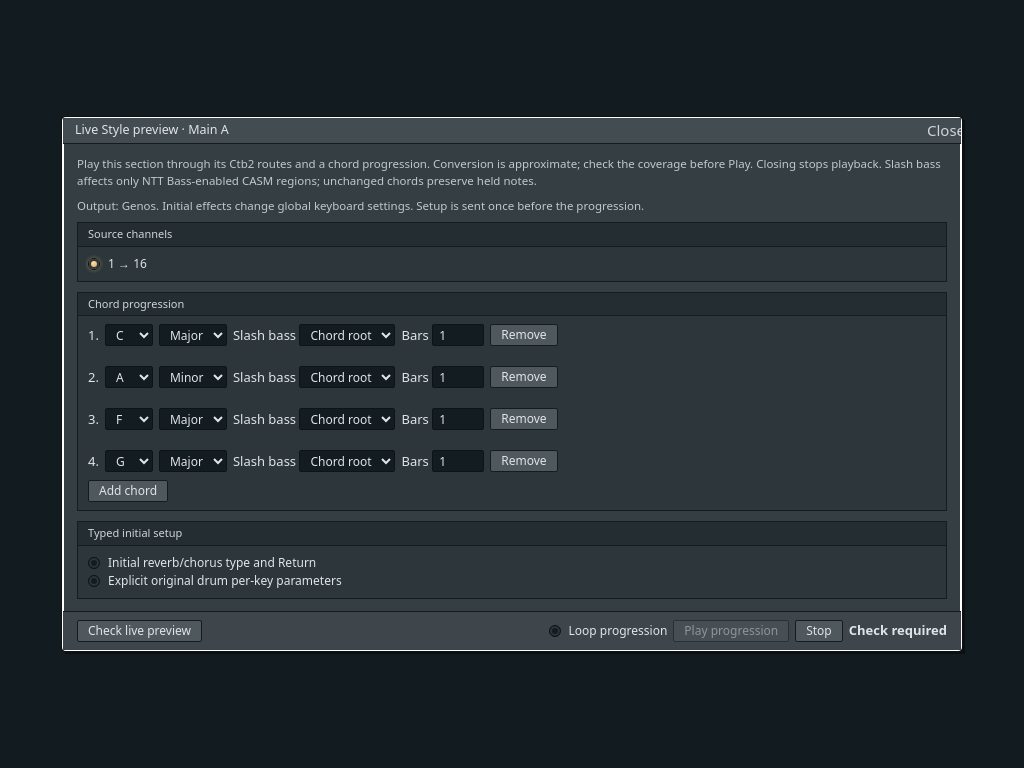
includes optional slash bass only after selection and invalidates its reviewed plan
Select "E" in the dropdown named "Chord 1 bass" at [348, 335], box [300,324,396,346]
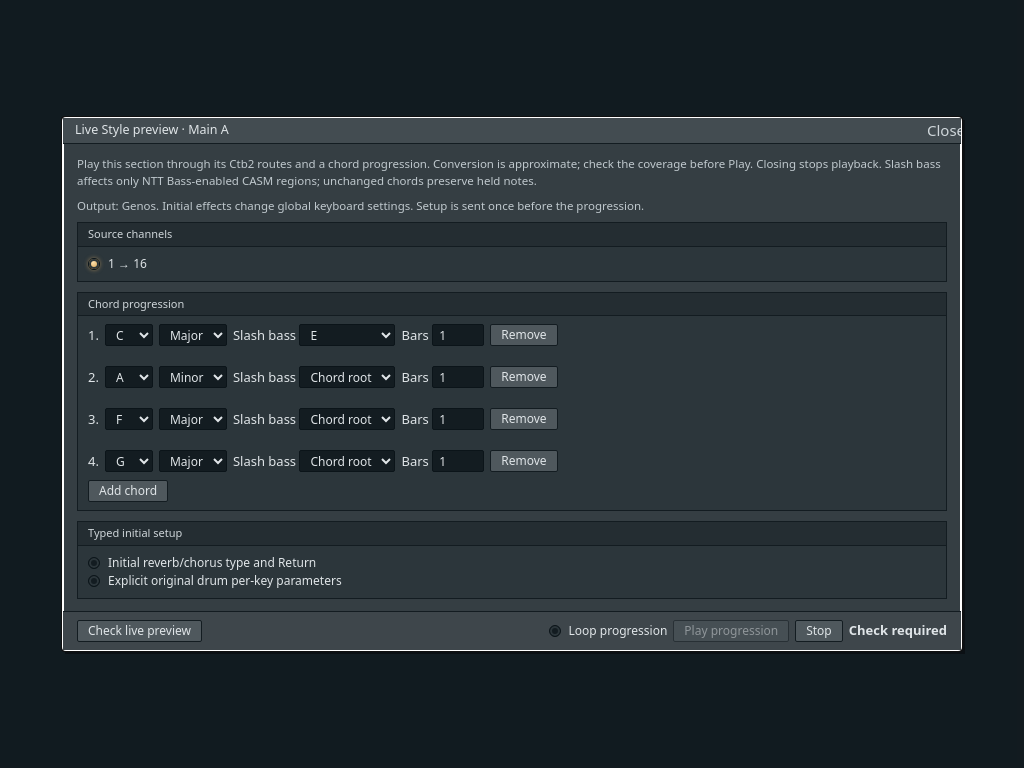
Click the button "Check live preview" at [140, 631], box [77,620,202,642]
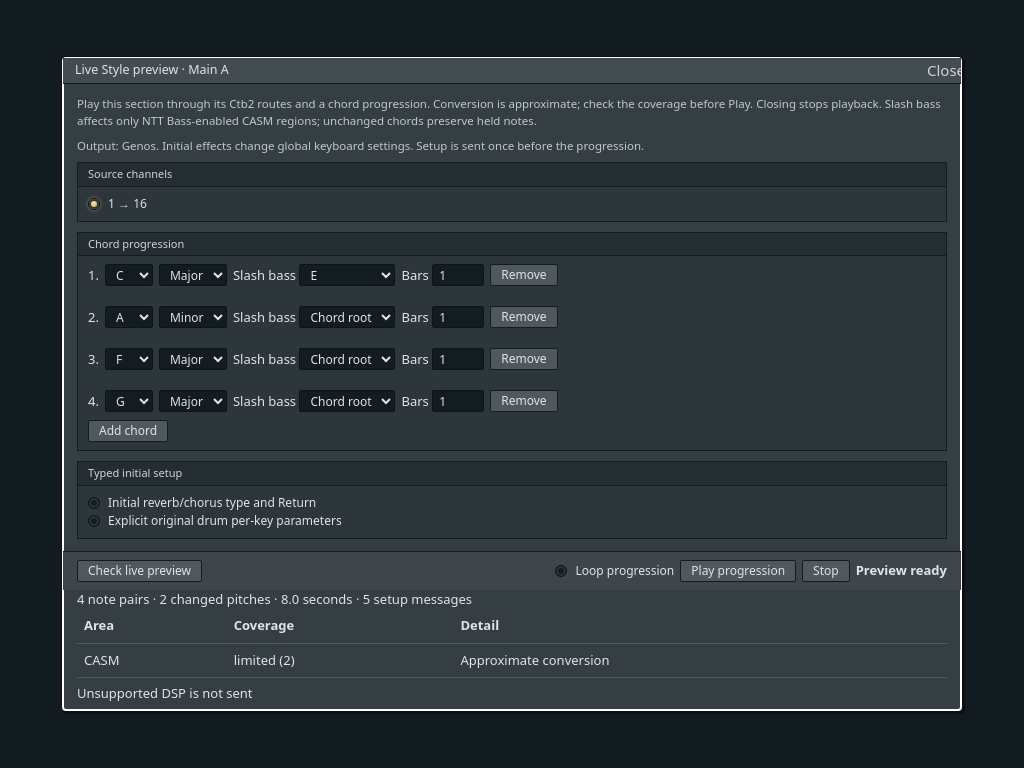
expect the text "Preview ready" is shown: met, box [856,561,947,580]
Select "Chord root" in the dropdown named "Chord 1 bass" at [348, 275], box [300,264,396,286]
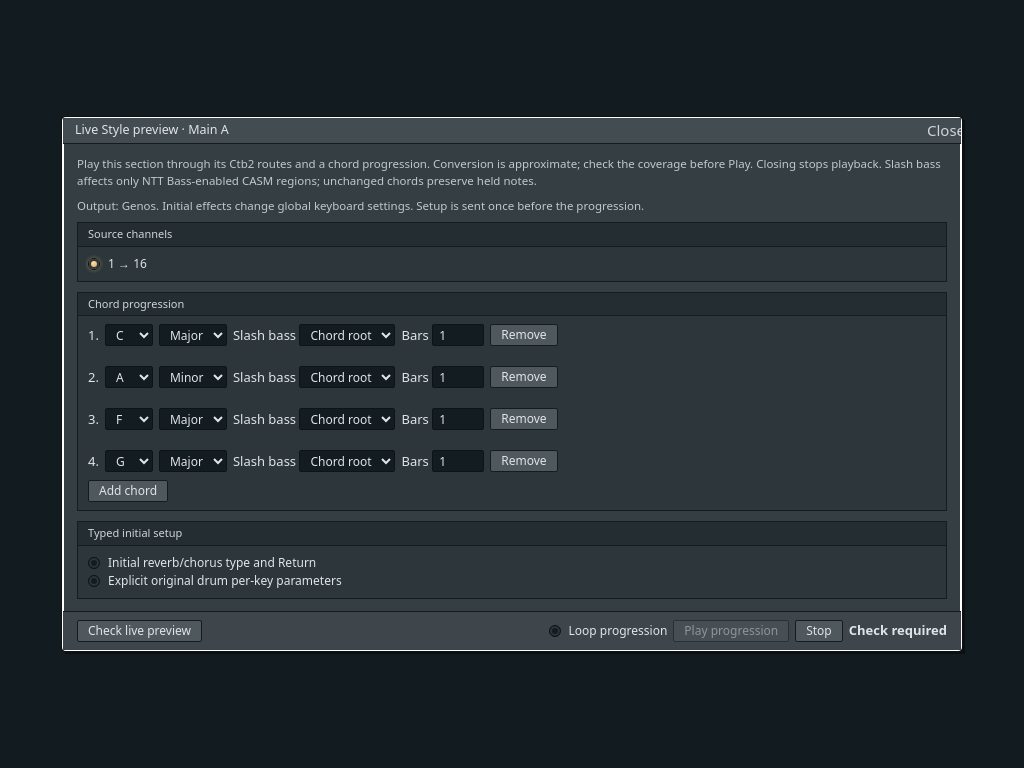
expect the text "Check required" is shown: met, box [849,621,947,640]
expect the button "Play progression" is disabled: met, box [673,620,789,642]
